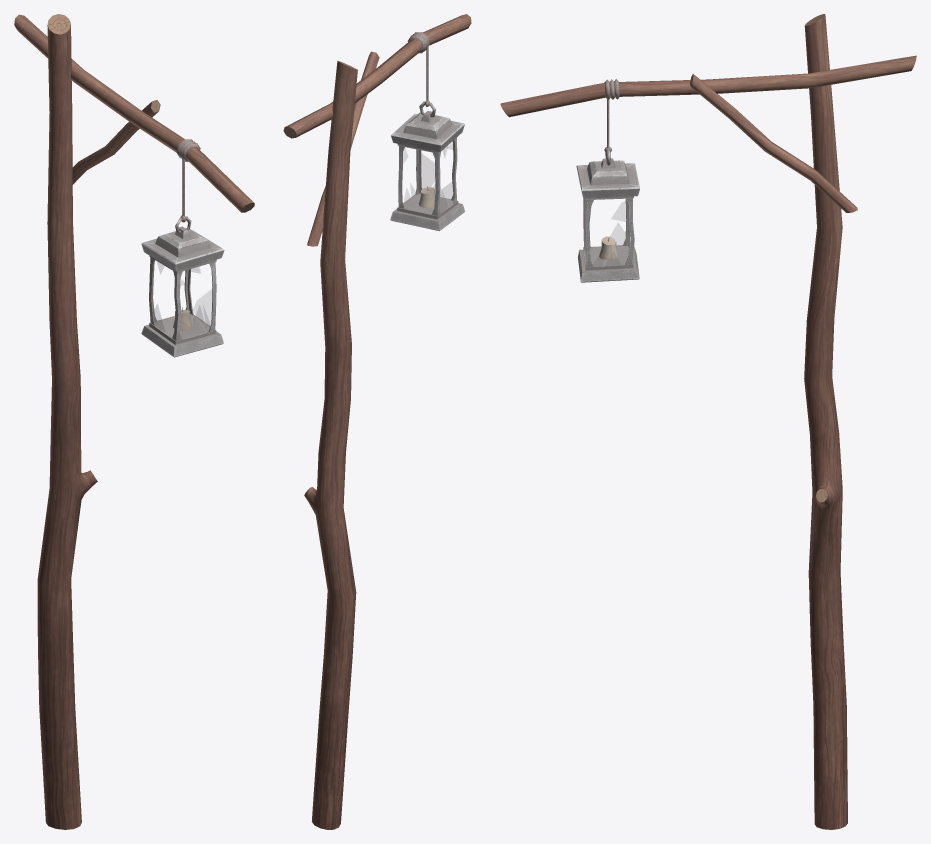
3 views of the same model, side by side, from view 1: azimuth 30°, elevation 25°; view 2: azimuth 150°, elevation 25°; view 3: azimuth 270°, elevation 25° (orthographic). The views are drawn at different scales.
Visible parts, largest first — view 1: submesh_0, submesh_1; view 2: submesh_0, submesh_1; view 3: submesh_0.
Part boxes in pixels (bbox=[...]): submesh_0: bbox=[14, 14, 254, 829]; submesh_1: bbox=[153, 262, 212, 338]; submesh_0: bbox=[283, 14, 471, 829]; submesh_1: bbox=[403, 143, 452, 211]; submesh_0: bbox=[500, 14, 916, 829].
Bounding box in the file's own units: 0.2764 × 3.58 × 1.68.
2 materials, 2 textured.
